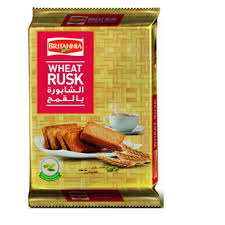Britania-toast-large: (30, 13, 159, 207)
